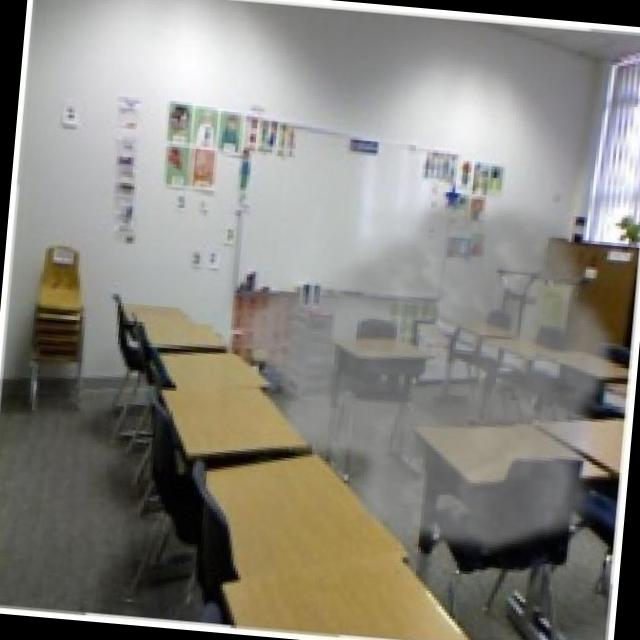Smoke: (212, 170, 631, 568)
